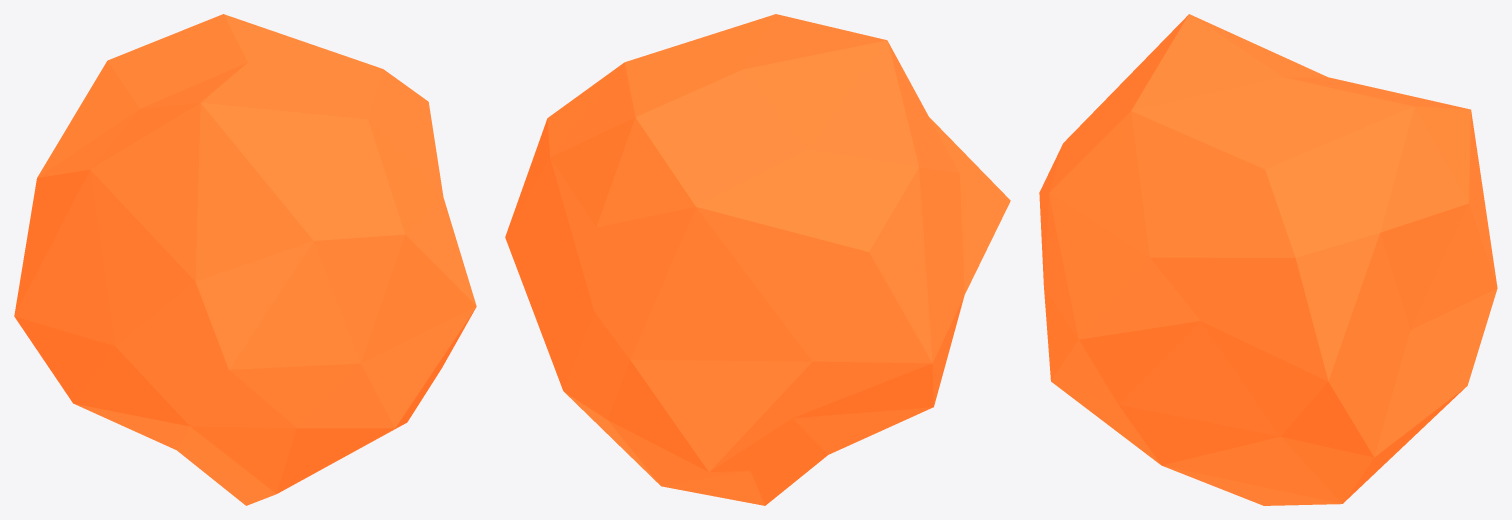
File: meteor.glb
3 views of the same model, side by side, from view 1: azimuth 30°, elevation 25°; view 2: azimuth 150°, elevation 25°; view 3: azimuth 270°, elevation 25° (orthographic).
Parts seen in each view (by area): view 1: meteor; view 2: meteor; view 3: meteor.
Part boxes in pixels (bbox=[...]): meteor: bbox=[14, 14, 476, 505]; meteor: bbox=[505, 14, 1010, 505]; meteor: bbox=[1039, 14, 1497, 505].
Bounding box in the file's own units: 1.92 × 1.96 × 1.8.
